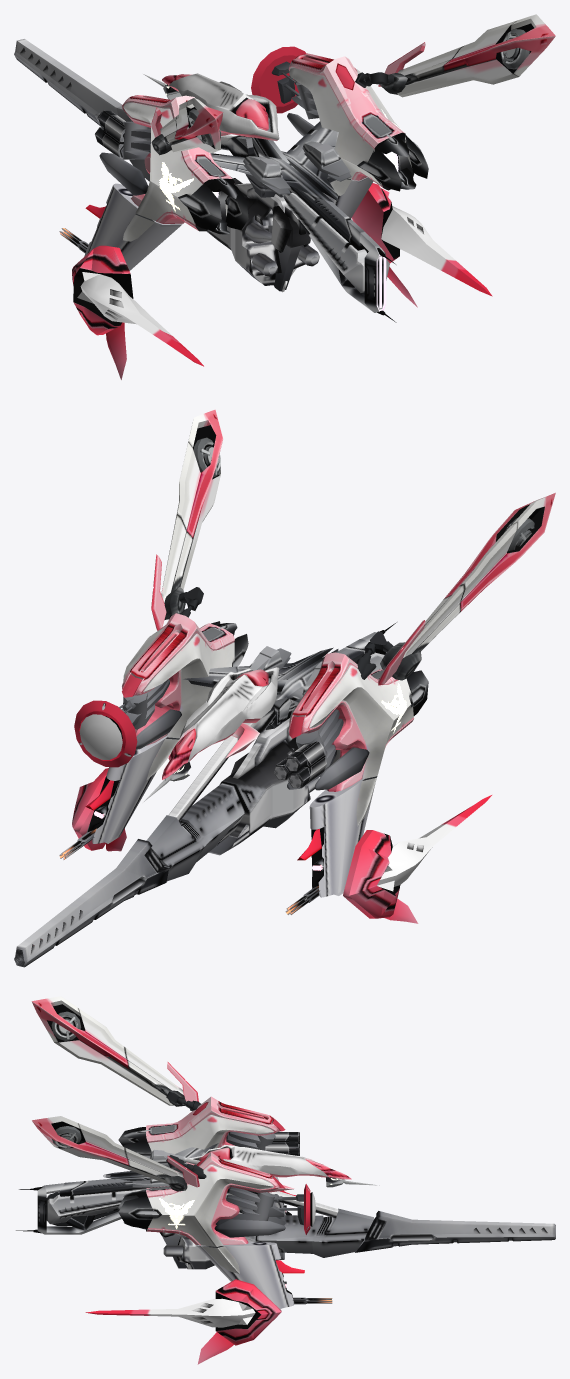
The picture shows the model from 3 angles, top to bottom: view 1: azimuth 30°, elevation 25°; view 2: azimuth 150°, elevation 25°; view 3: azimuth 270°, elevation 25°; orthographic projection. The views are drawn at different scales.
Parts seen in each view (by area): view 1: body; view 2: body; view 3: body.
Boxes of the visible parts, bbox=[...] form: body: bbox=[14, 14, 555, 379]; body: bbox=[14, 409, 555, 967]; body: bbox=[16, 996, 555, 1364].
Bounding box in the file's own units: 26.82 × 26.03 × 49.79.
Materials: 2 (2 with a texture image).
